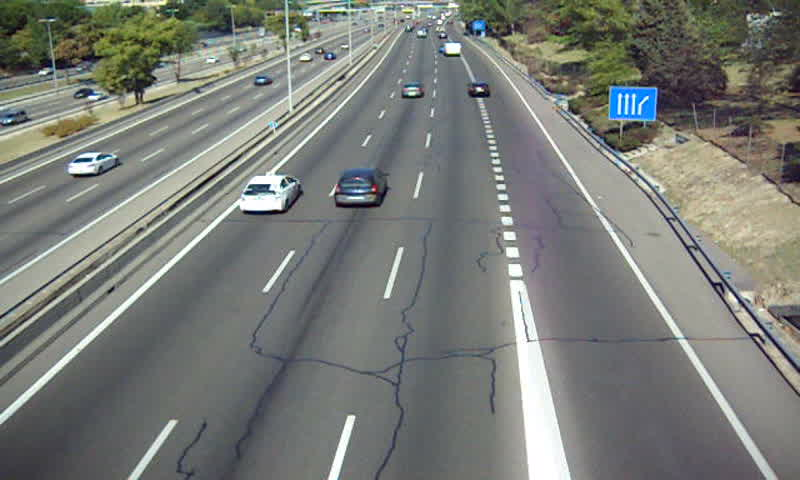car: (241, 174, 301, 212), (335, 168, 388, 206), (401, 82, 424, 99), (467, 82, 490, 96)
van: (444, 42, 462, 55)
